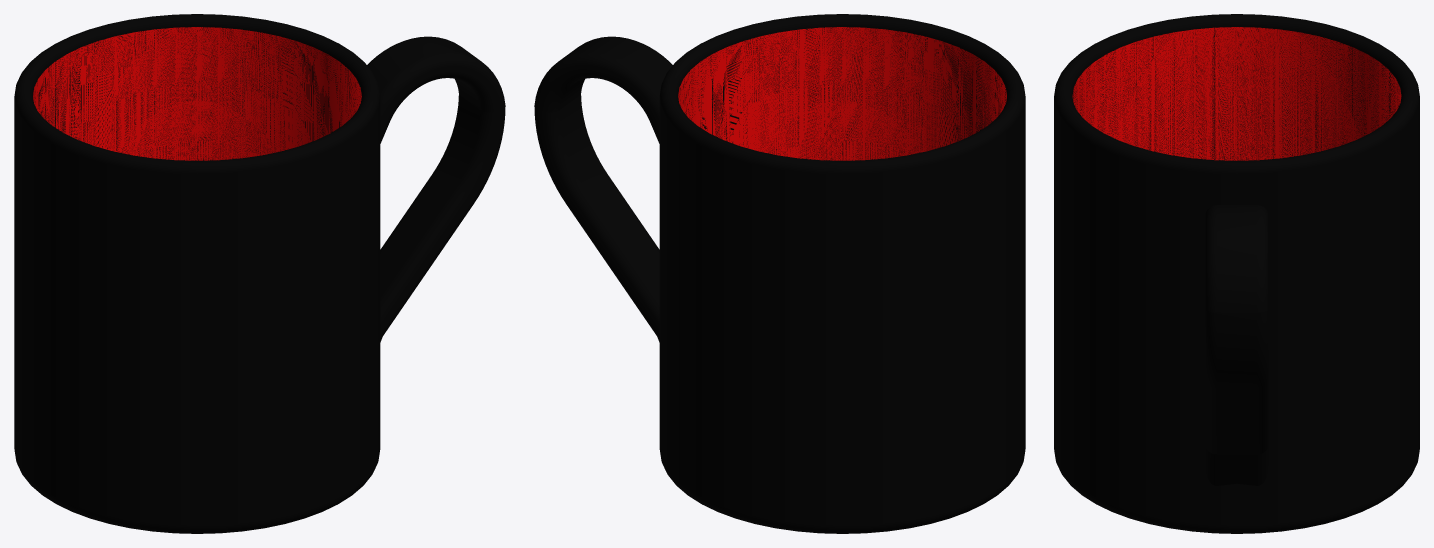
Rendered from mug_18_origin_gt_4.dae.
3 views of the same model, side by side, from view 1: azimuth 30°, elevation 25°; view 2: azimuth 150°, elevation 25°; view 3: azimuth 270°, elevation 25° (orthographic).
Parts seen in each view (by area): view 1: Mug (×2), group_0; view 2: Mug (×2), group_0; view 3: Mug (×2), group_0.
Boxes of the visible parts, x1,y1,x2,y2 form: Mug (×2): (14,14,380,533); group_0: (367,36,505,342); Mug (×2): (659,14,1025,533); group_0: (534,36,672,342); Mug (×2): (1054,14,1419,533); group_0: (1205,205,1268,485).
Size of the model in its own units: 4.52 by 3.15 by 3.54.
